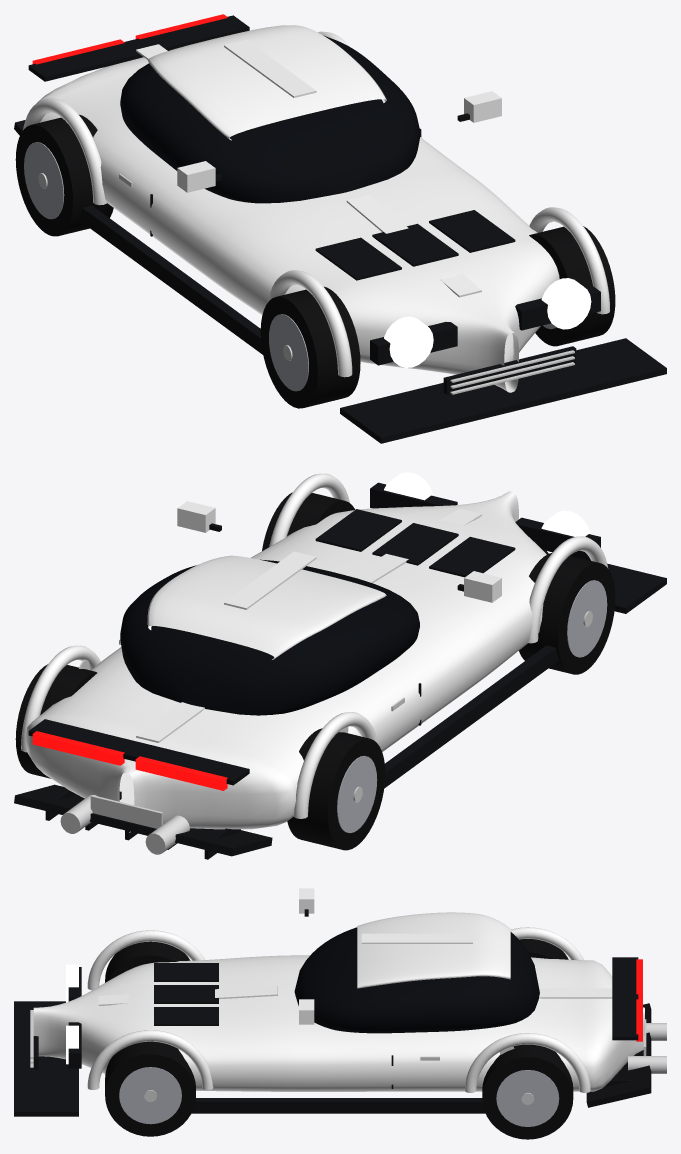
File: car_coupe.glb
3 renders of one model, top to bottom at view 1: azimuth 30°, elevation 25°; view 2: azimuth 150°, elevation 25°; view 3: azimuth 270°, elevation 25°, orthographic. The views are drawn at different scales.
Visible parts, largest first — view 1: body, cabin, tire (×3), roof, splitter, skirtR, rim (×2), lip, flareR1.45, flareR-1.45, vent0, vent2 (+11 smaller); view 2: body, cabin, tire (×4), roof, rim (×2), skirtR, diffuser, lip, flareR-1.45, vent2, flareR1.45, vent0 (+18 smaller); view 3: body, cabin, tire (×4), roof, rim (×2), splitter, skirtL, lip, flareL-1.45, flareL1.45, diffuser, flareR1.45 (+11 smaller).
Part boxes in pixels (left/top/right/bottom): body: left=37, top=57, right=559, bottom=392; cabin: left=120, top=35, right=419, bottom=203; tire (×3): left=15, top=114, right=615, bottom=408; roof: left=147, top=25, right=386, bottom=140; splitter: left=340, top=338, right=666, bottom=443; skirtR: left=79, top=205, right=263, bottom=354; rim (×2): left=24, top=142, right=308, bottom=391; lip: left=28, top=15, right=249, bottom=81; flareR1.45: left=268, top=270, right=352, bottom=377; flareR-1.45: left=23, top=98, right=107, bottom=205; vent0: left=315, top=237, right=401, bottom=280; vent2: left=429, top=210, right=515, bottom=252; body: left=25, top=491, right=546, bottom=832; cabin: left=120, top=559, right=419, bottom=715; tire (×4): left=15, top=492, right=615, bottom=850; roof: left=147, top=555, right=386, bottom=659; rim (×2): left=337, top=580, right=607, bottom=832; skirtR: left=384, top=645, right=558, bottom=788; diffuser: left=14, top=784, right=272, bottom=856; lip: left=28, top=719, right=249, bottom=785; flareR-1.45: left=293, top=712, right=377, bottom=818; vent2: left=315, top=509, right=401, bottom=551; flareR1.45: left=527, top=536, right=608, bottom=643; vent0: left=429, top=536, right=515, bottom=577; body: left=33, top=955, right=644, bottom=1091; cabin: left=294, top=927, right=539, bottom=1033; tire (×4): left=105, top=939, right=573, bottom=1139; roof: left=357, top=912, right=510, bottom=988; rim (×2): left=119, top=1067, right=559, bottom=1126; splitter: left=14, top=1001, right=78, bottom=1116; skirtL: left=191, top=1098, right=485, bottom=1113; lip: left=612, top=957, right=638, bottom=1040; flareL-1.45: left=464, top=1033, right=590, bottom=1092; flareL1.45: left=87, top=1030, right=213, bottom=1089; diffuser: left=586, top=1003, right=651, bottom=1107; flareR1.45: left=87, top=930, right=205, bottom=990.
Bounding box in the file's own units: 2.23 × 1.2 × 5.02.
